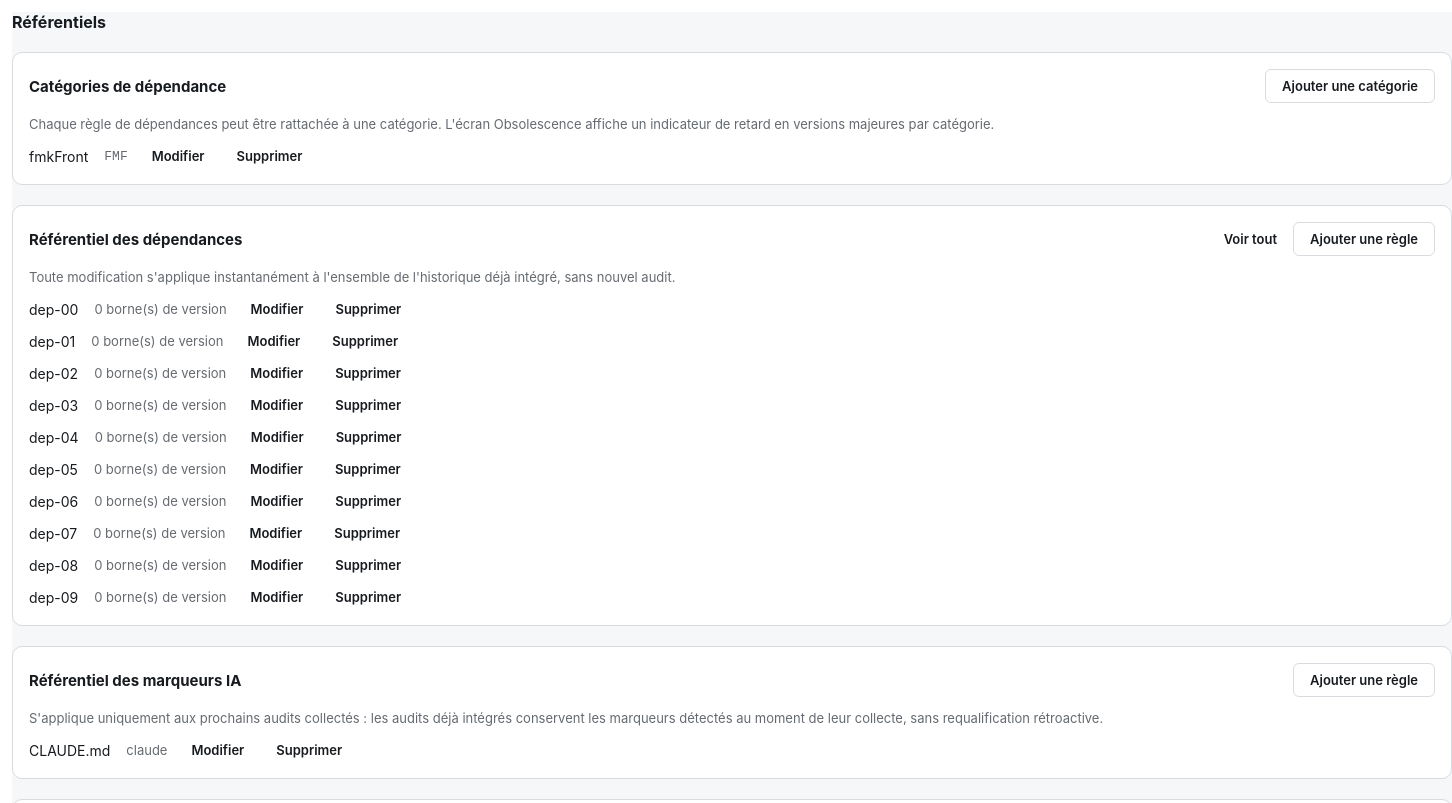
it: SqmReferentielsParametrageComponent › limite l’affichage aux 10 premières règles de dépendances puis bascule via « Voir tout » / « Voir moins »
The width and height of the screenshot is (1452, 803).
Click the button with id "referentiels-parametrage-bouton-voir-tout-dependances".
click(1250, 239)  # box [1216, 227, 1285, 251]
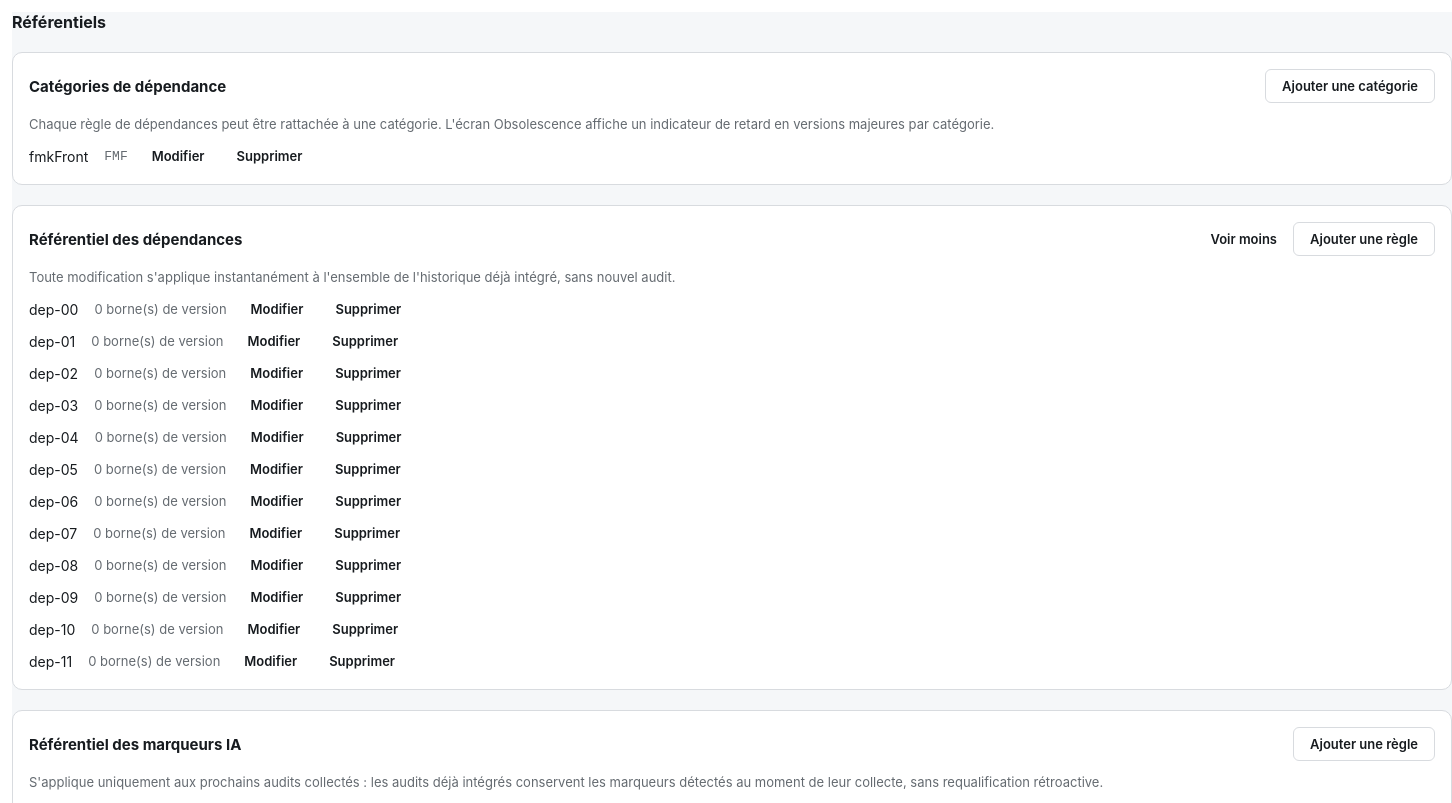
Check: the button with id "referentiels-parametrage-bouton-voir-tout-dependances" reads "Voir moins"
Click the button with id "referentiels-parametrage-bouton-voir-tout-dependances".
click(1244, 239)  # box [1202, 227, 1285, 251]
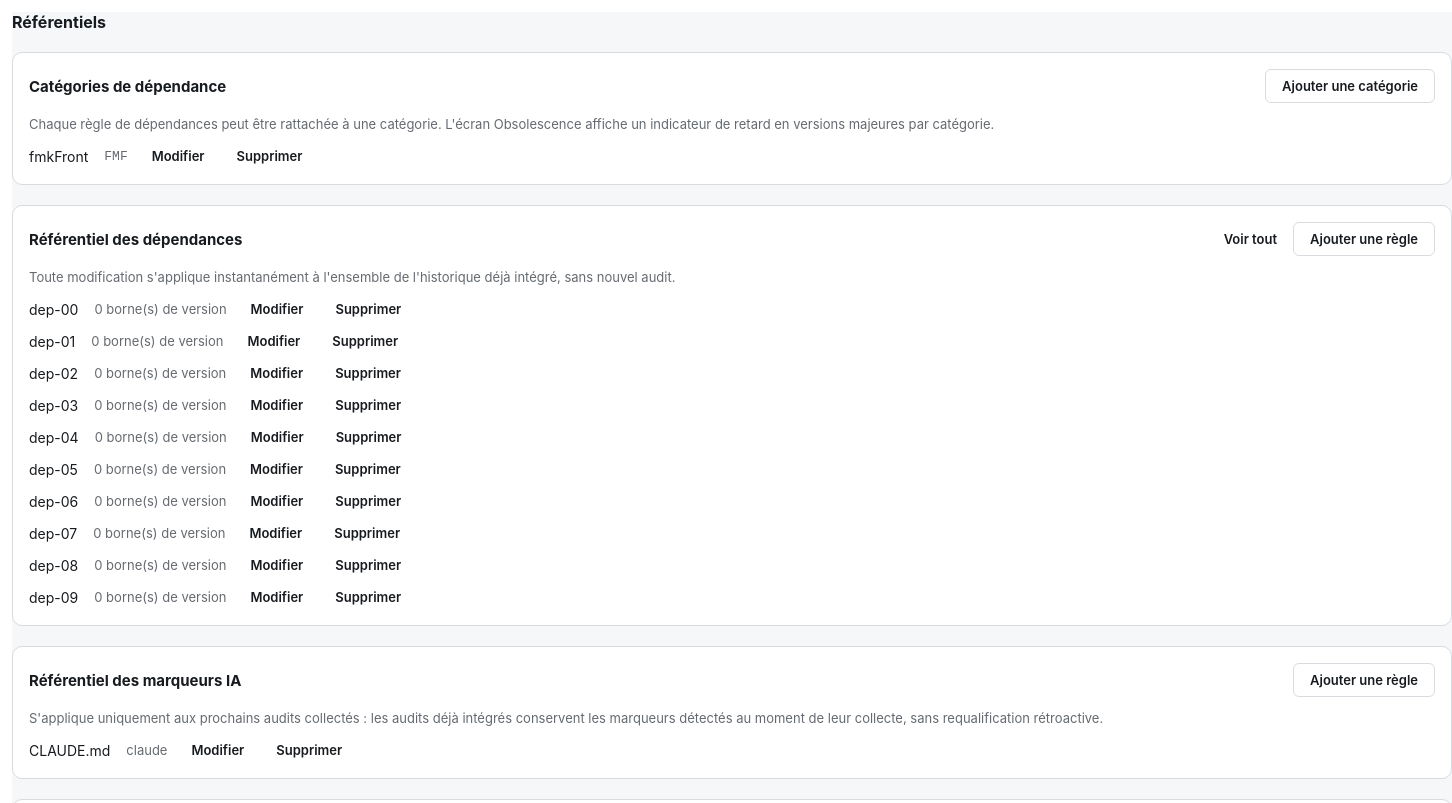
Check: the button with id "referentiels-parametrage-bouton-voir-tout-dependances" reads "Voir tout", box [1216, 227, 1285, 251]
